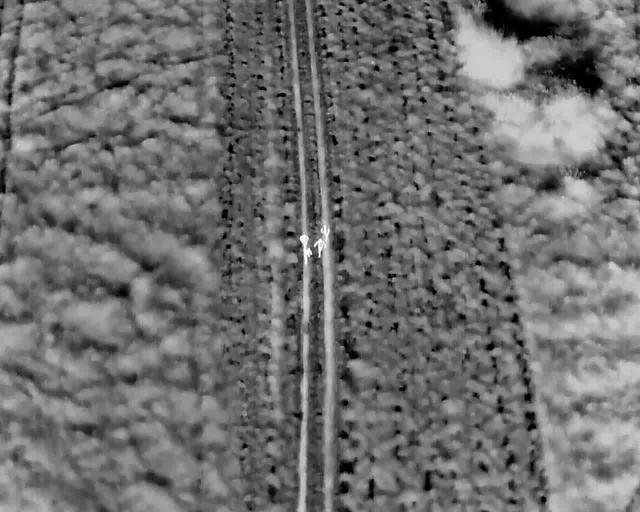person: (312, 236, 326, 258), (319, 221, 330, 245), (301, 244, 312, 266), (298, 231, 310, 250)
